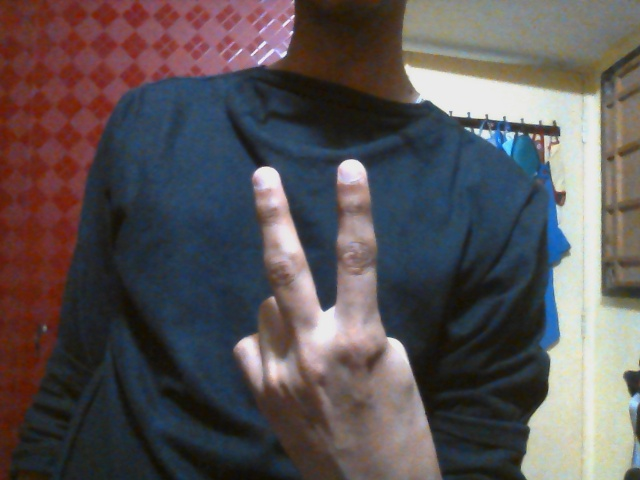V: (232, 157, 436, 471)
